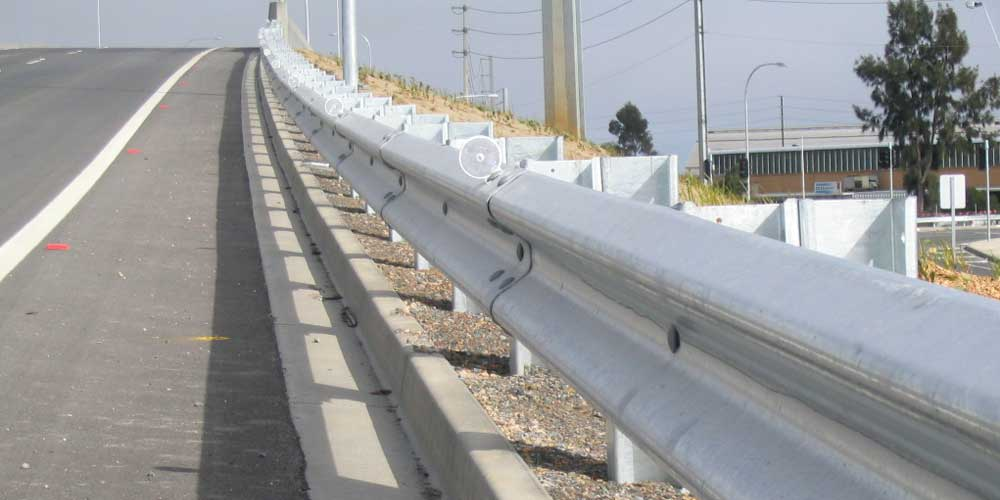not_damaged: (265, 48, 1000, 500)
